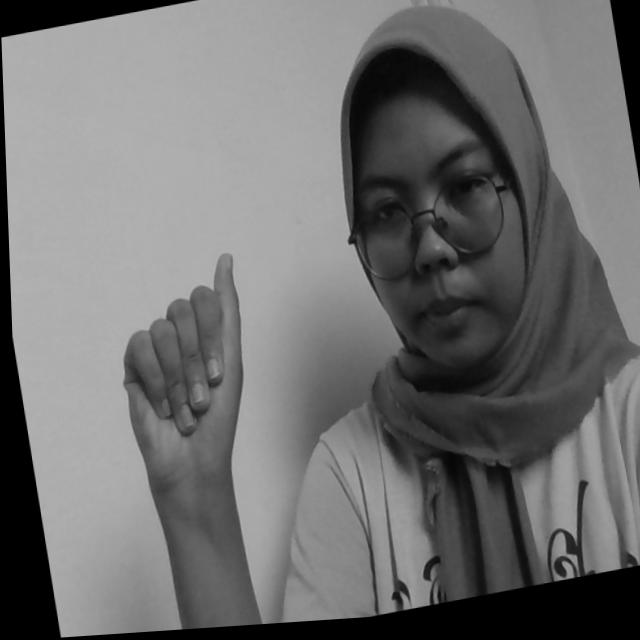A: (102, 252, 263, 485)
